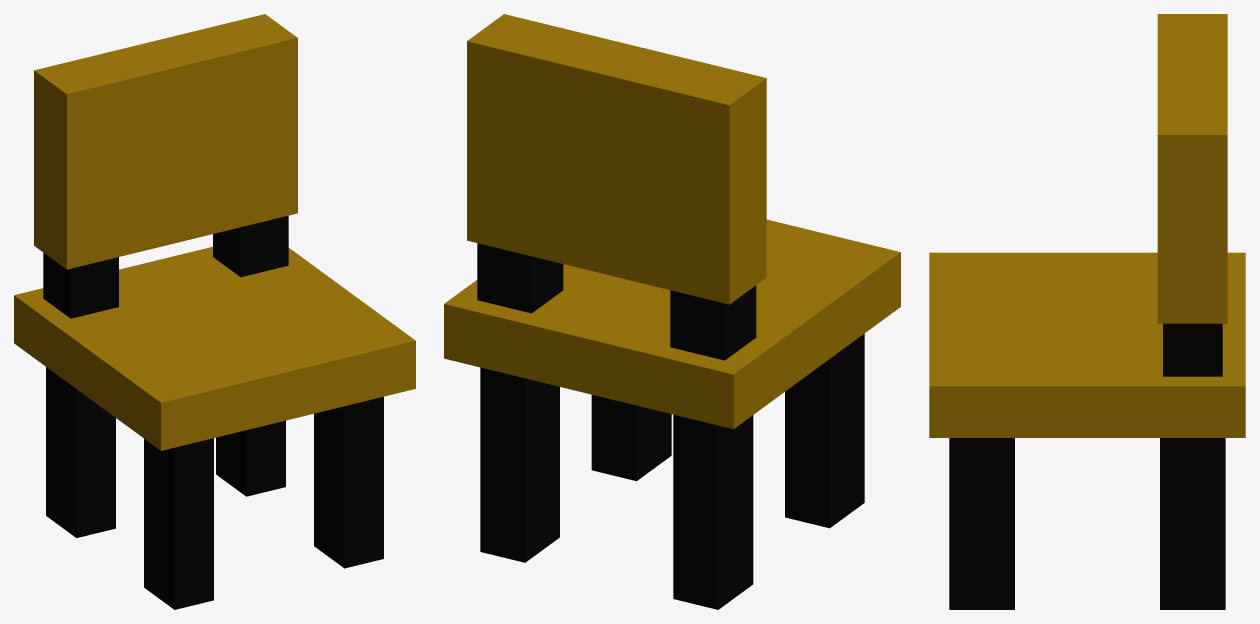
The model's file is isu.fbx.
3 views of the same model, side by side, from view 1: azimuth 30°, elevation 25°; view 2: azimuth 150°, elevation 25°; view 3: azimuth 270°, elevation 25° (orthographic). The views are drawn at different scales.
Parts seen in each view (by area): view 1: pCube3; view 2: pCube3; view 3: pCube3.
Part boxes in pixels (x1,y1,x2,y2): pCube3: (14,14,415,609); pCube3: (444,14,900,609); pCube3: (929,14,1245,609).
Bounding box in the file's own units: 17.26 × 28.95 × 17.26.
